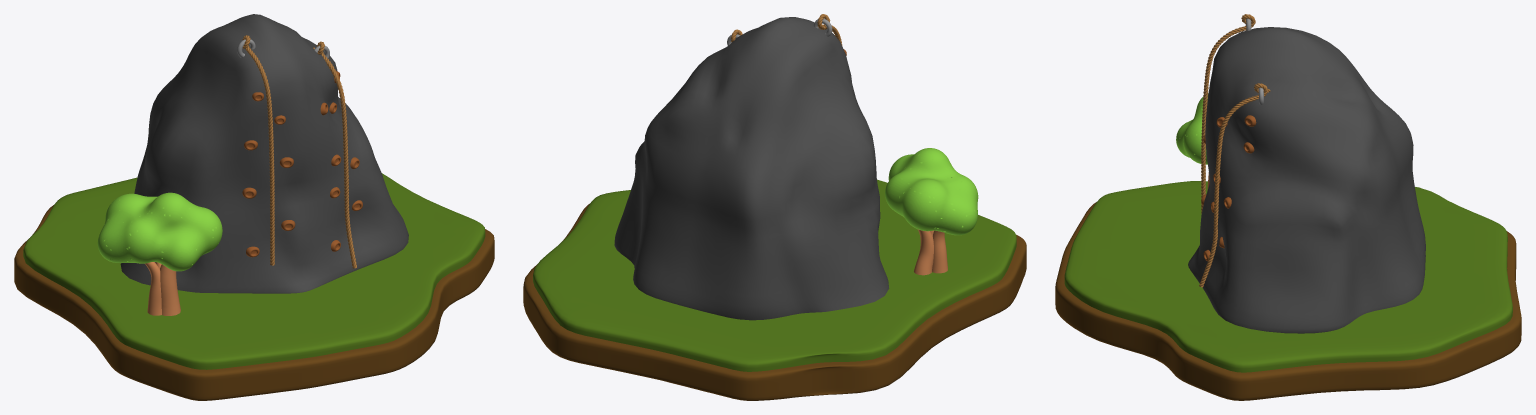
File: rock climbing.glb
3 views of the same model, side by side, from view 1: azimuth 30°, elevation 25°; view 2: azimuth 150°, elevation 25°; view 3: azimuth 270°, elevation 25° (orthographic).
Visible parts, largest first — view 1: Cube028, Plane014, Plane015, Mball008, Merged_1, Merged_2, NurbsPath031; view 2: Cube028, Plane014, Plane015, Mball008, NurbsPath031; view 3: Cube028, Plane014, Plane015, Merged_1, Mball008, Merged_2.
Boxes of the visible parts, x1,y1,x2,y2 form: Cube028: [120, 14, 408, 293]; Plane014: [23, 173, 485, 369]; Plane015: [14, 205, 494, 400]; Mball008: [97, 192, 222, 271]; Merged_1: [242, 35, 356, 268]; Merged_2: [242, 71, 362, 257]; NurbsPath031: [145, 262, 180, 315]; Cube028: [614, 17, 889, 320]; Plane014: [533, 179, 1016, 371]; Plane015: [523, 203, 1026, 400]; Mball008: [885, 148, 978, 235]; NurbsPath031: [914, 229, 947, 275]; Cube028: [1188, 27, 1425, 333]; Plane014: [1064, 181, 1512, 372]; Plane015: [1055, 202, 1521, 400]; Merged_1: [1199, 14, 1270, 287]; Mball008: [1176, 93, 1208, 164]; Merged_2: [1201, 93, 1256, 261].
Size of the model in its own units: 0.9753 by 0.6519 by 1.
